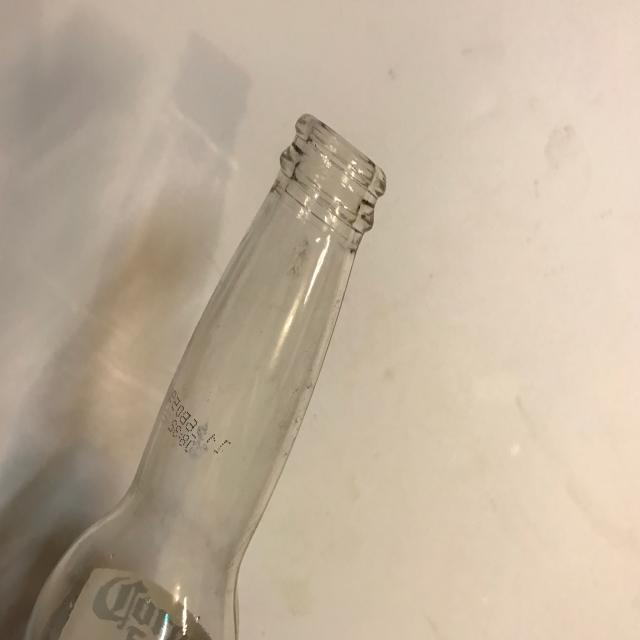glass: (12, 111, 387, 640)
